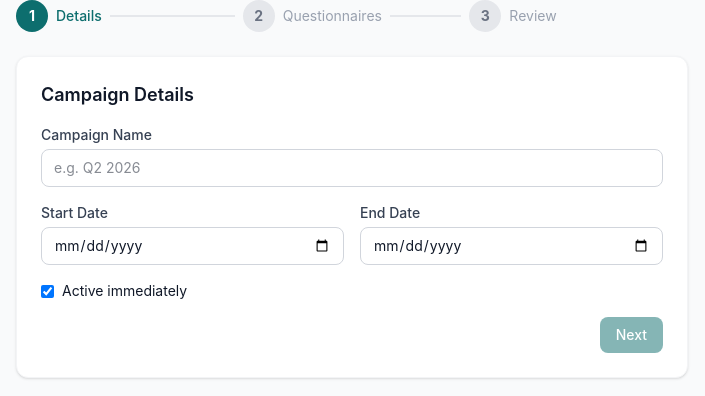
Test: CampaignCreatePage › advances to step 2 when details filled
In the field with placeholder "e.g. Q2 2026": coordinates (352, 168) [41,149,663,187], type "Test Campaign"
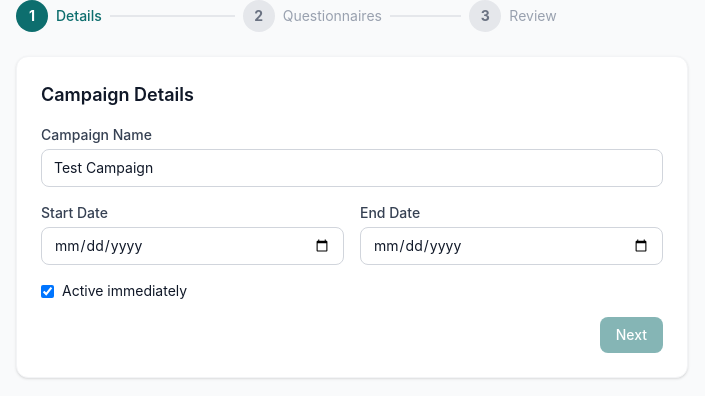
In the date field below "Start Date": coordinates (192, 246) [41,227,344,265], type "2026-01-01"
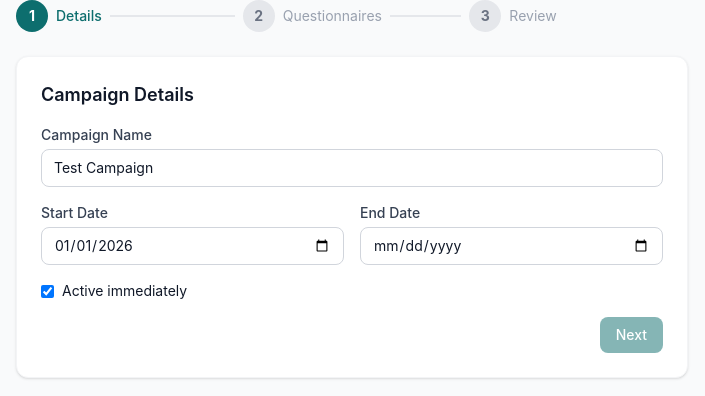
In the date field below "End Date": coordinates (512, 246) [360,227,663,265], type "2026-03-31"
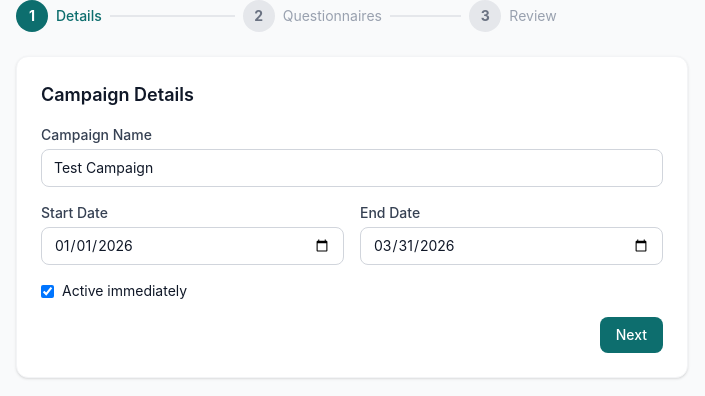
Click the button "Next": coordinates (631, 335) [600,317,663,353]
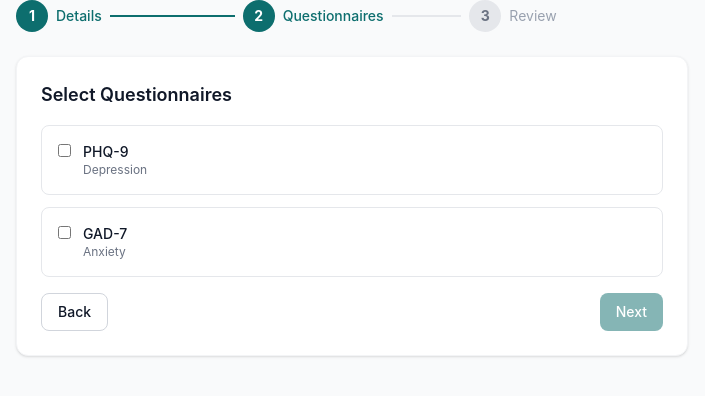
expect the heading "Select Questionnaires" is shown: met, box [41,84,232,105]
